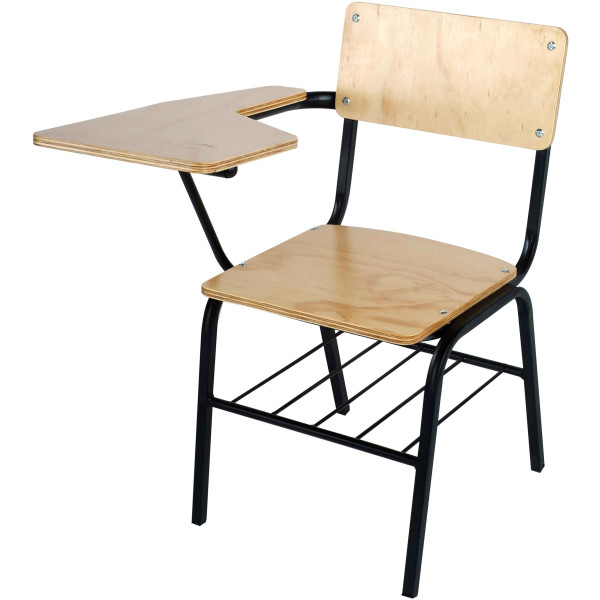m01: (33, 1, 570, 600)
